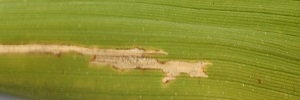RiceBacterialBlight: (1, 37, 220, 91)
